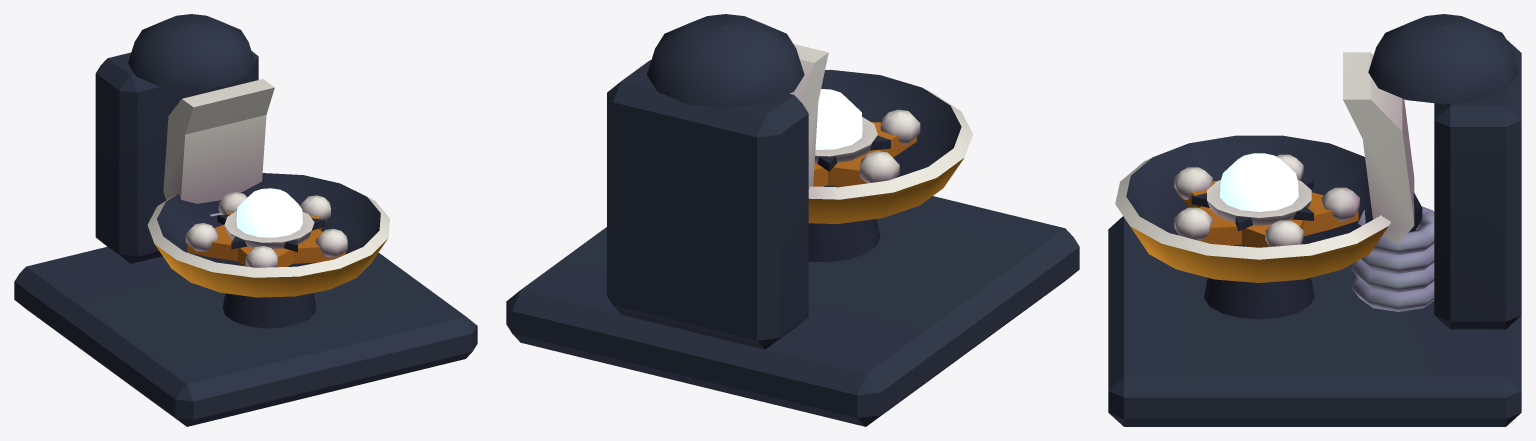
File: R4X_ExplosiveTrapDeployer_LOD1.fbx
3 renders of one model, left to right at view 1: azimuth 30°, elevation 25°; view 2: azimuth 150°, elevation 25°; view 3: azimuth 270°, elevation 25°, orthographic. The views are drawn at different scales.
Parts seen in each view (by area): view 1: R4X_ExplosiveTrapDeployer_LOD1; view 2: R4X_ExplosiveTrapDeployer_LOD1; view 3: R4X_ExplosiveTrapDeployer_LOD1.
Boxes of the visible parts, left/top/right/bottom form: R4X_ExplosiveTrapDeployer_LOD1: left=14, top=14, right=477, bottom=426; R4X_ExplosiveTrapDeployer_LOD1: left=506, top=14, right=1079, bottom=426; R4X_ExplosiveTrapDeployer_LOD1: left=1108, top=14, right=1521, bottom=426.
Bounding box in the file's own units: 0.52 × 0.446 × 0.52.
